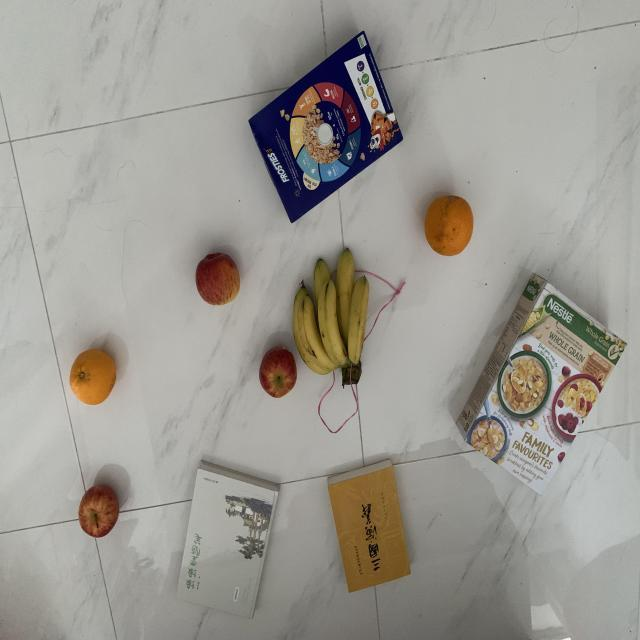Apple: (192, 249, 244, 309), (77, 483, 122, 541), (256, 344, 296, 402)
Banana: (290, 242, 370, 389)
Book: (171, 460, 279, 622), (326, 457, 415, 597)
Cerealbox: (452, 272, 628, 501), (243, 26, 419, 226)
Orange: (421, 195, 476, 259), (67, 345, 121, 409)
